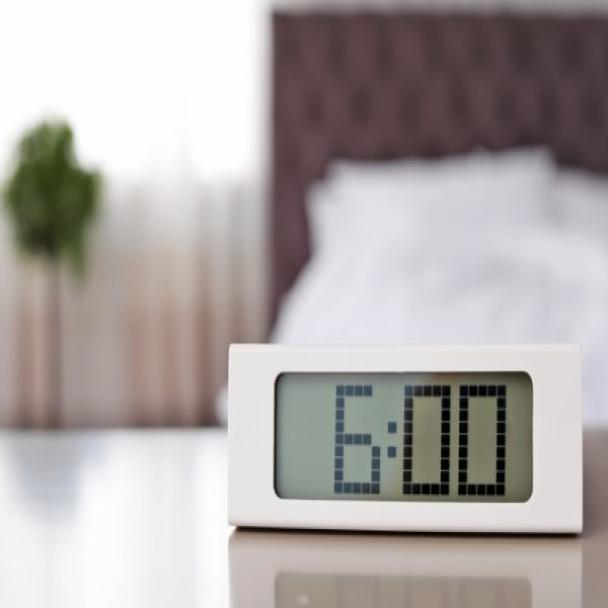Jam: (228, 343, 581, 543)
